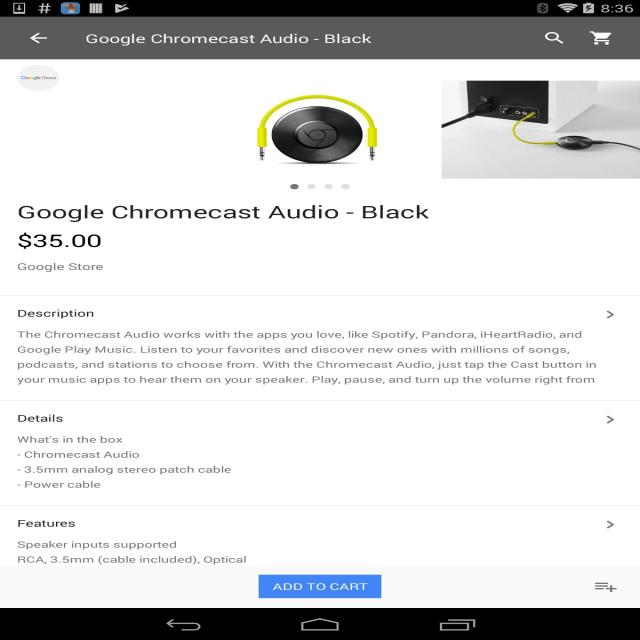button: (259, 575, 381, 597), (585, 27, 630, 52), (531, 28, 574, 48), (588, 576, 620, 596), (26, 25, 50, 51), (598, 307, 620, 322), (601, 412, 623, 426), (604, 516, 617, 532)
heading: (12, 203, 434, 251), (82, 32, 380, 46), (12, 306, 96, 322), (15, 518, 79, 531), (19, 413, 66, 426)
image: (2, 60, 640, 198)
text: (14, 328, 602, 388), (16, 435, 234, 489), (16, 539, 251, 566), (16, 262, 107, 275)
